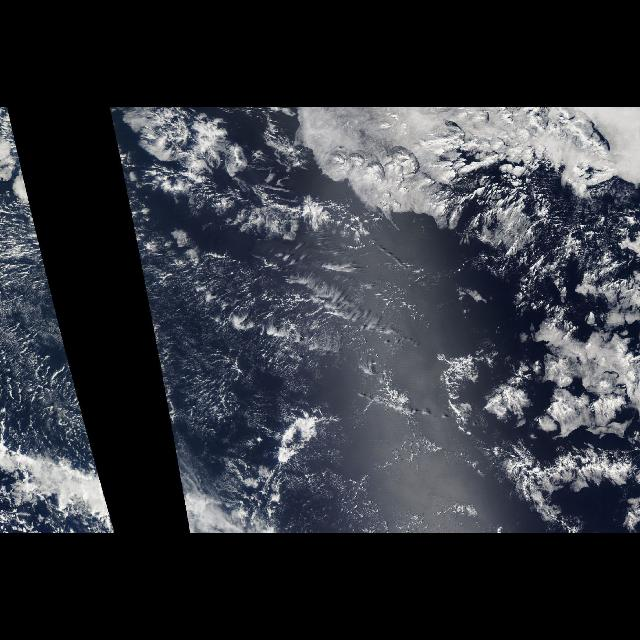Fish: (5, 424, 117, 530), (170, 424, 232, 530)
Sugar: (138, 254, 248, 438), (0, 254, 90, 438)
